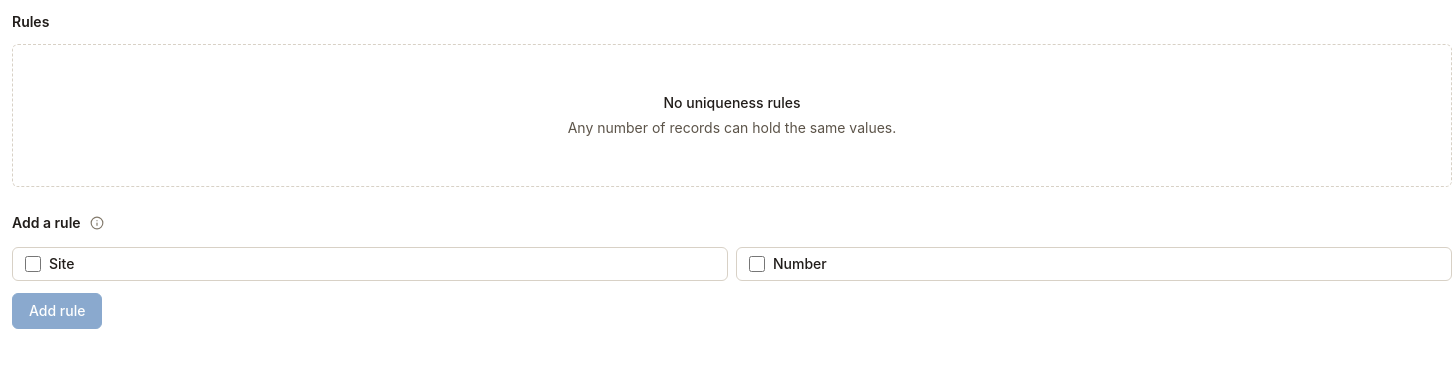
Test case: UniquenessSection › shows the server’s reason when a rule is refused
Click the checkbox labelled "Site" at (33,264), box [25, 256, 41, 272]
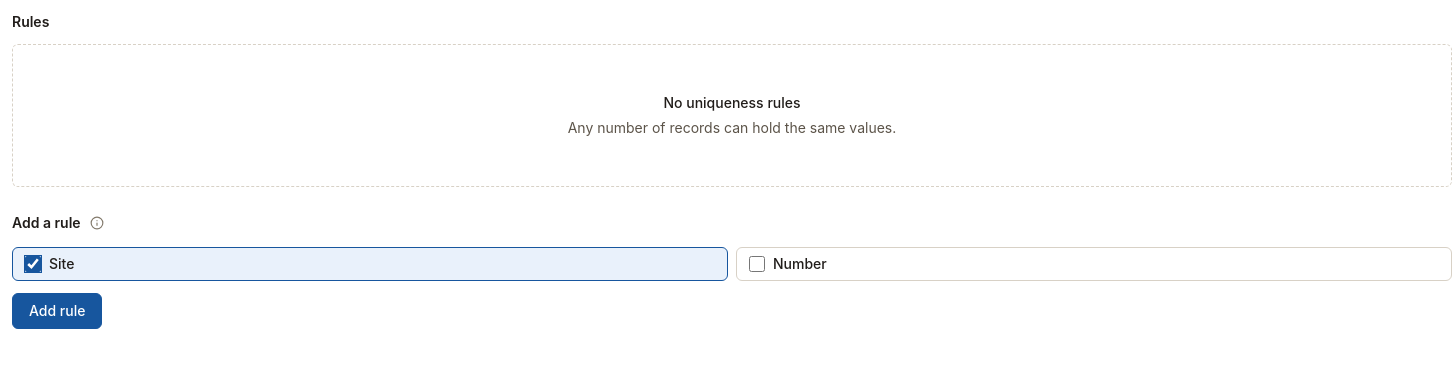
Click the button "Add rule" at (57,311), box [12, 293, 102, 329]
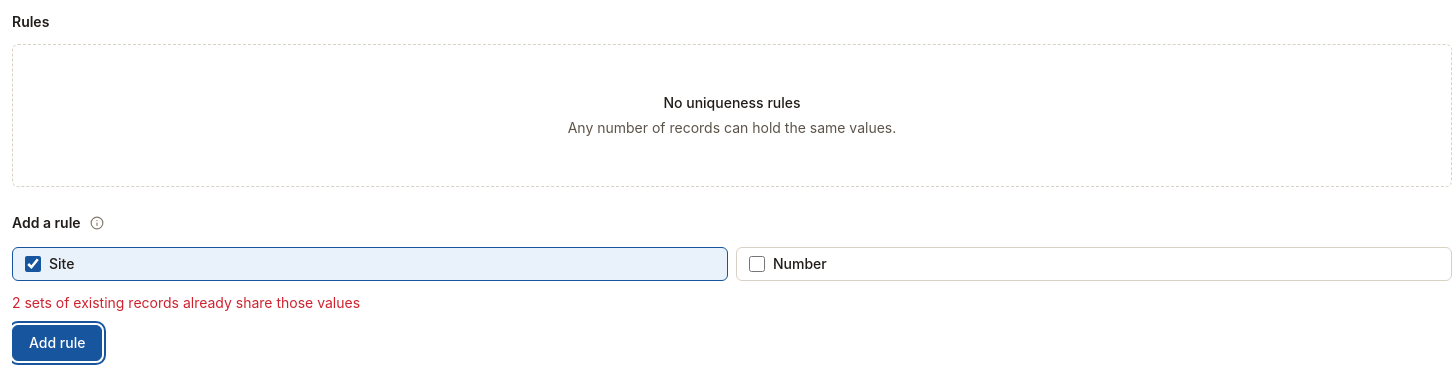
Now the message "2 sets of existing records already share those values" is shown, box [12, 294, 360, 311]
